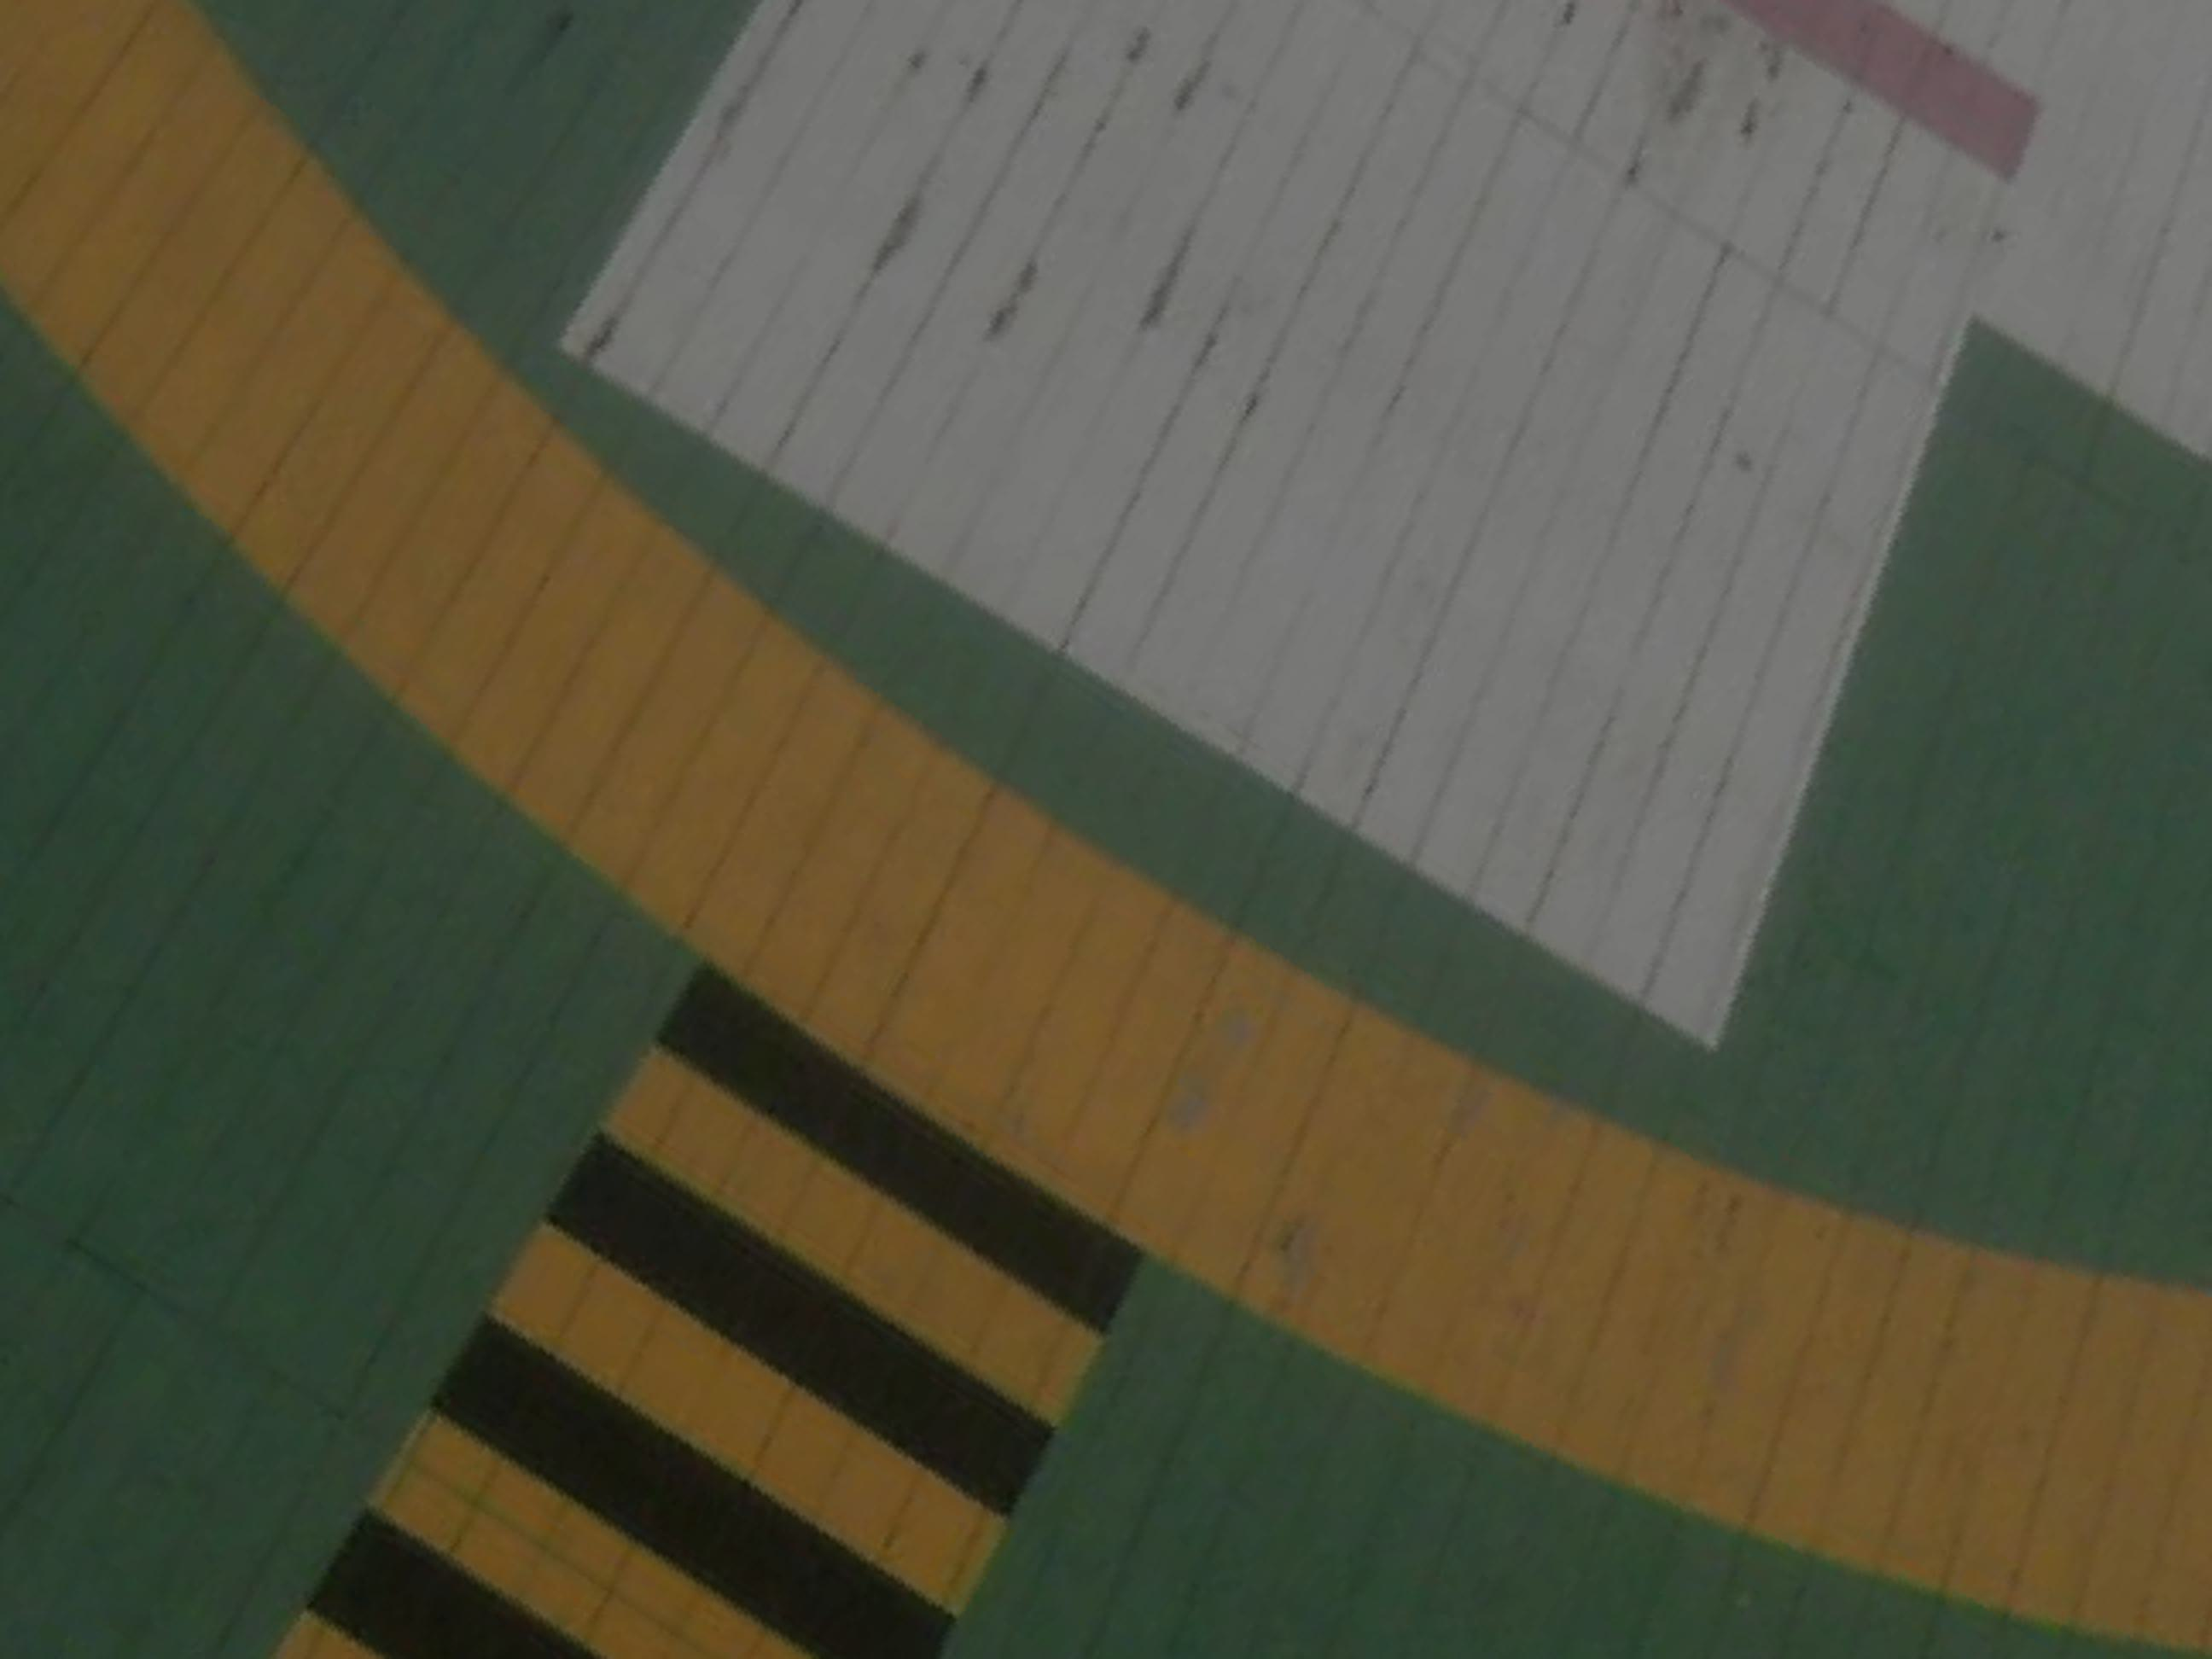Apron: (0, 30, 2200, 1638)
